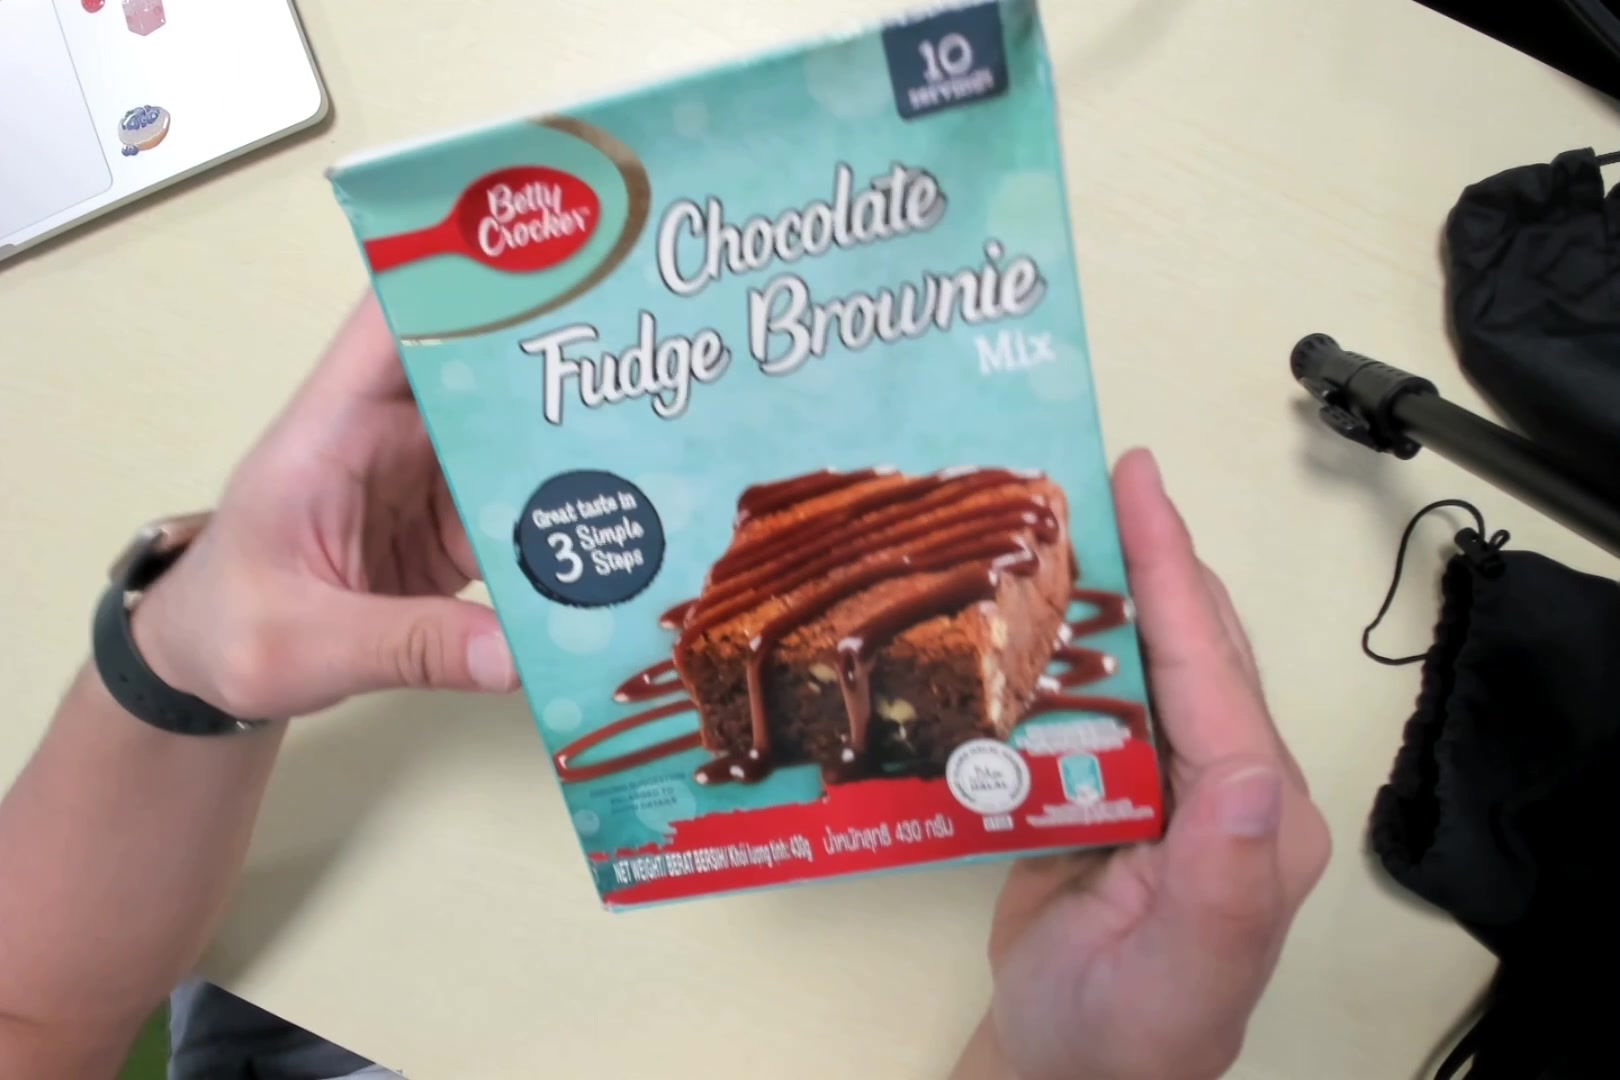OtherBakingNeeds_400-499g_Halal_NonHealthy: (335, 1, 1174, 916)
